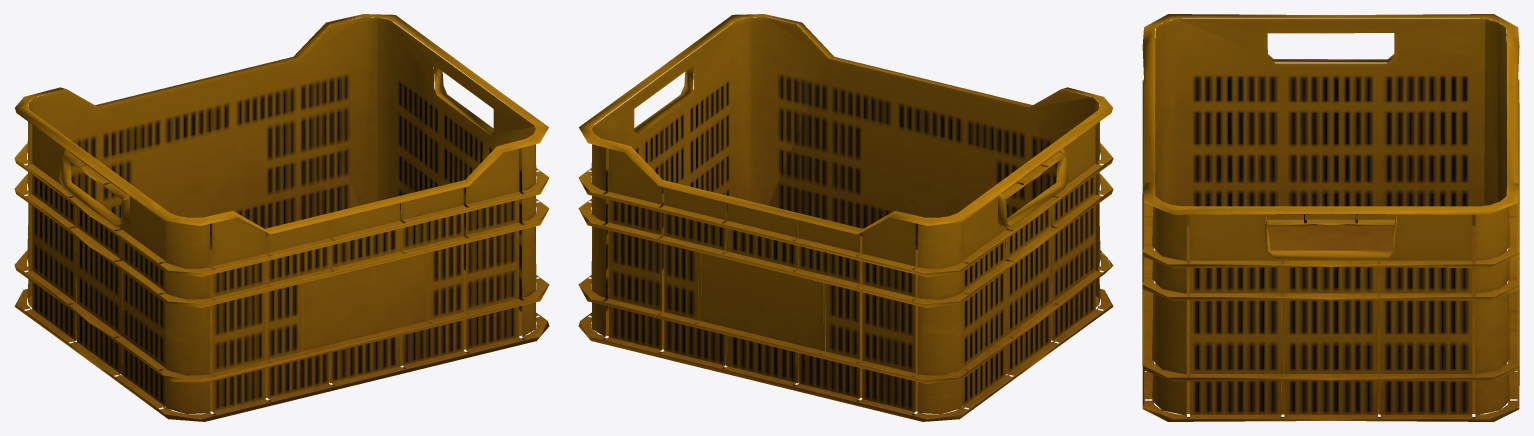
The model's file is plastic_crate_02.glb.
3 views of the same model, side by side, from view 1: azimuth 30°, elevation 25°; view 2: azimuth 150°, elevation 25°; view 3: azimuth 270°, elevation 25° (orthographic). The views are drawn at different scales.
Parts seen in each view (by area): view 1: plastic_crate_02; view 2: plastic_crate_02; view 3: plastic_crate_02.
Part boxes in pixels (x1,y1,x2,y2): plastic_crate_02: (14, 14, 549, 421); plastic_crate_02: (578, 14, 1113, 421); plastic_crate_02: (1142, 14, 1519, 421).
Bounding box in the file's own units: 0.5055 × 0.2541 × 0.4053.
1 material, 1 textured.
